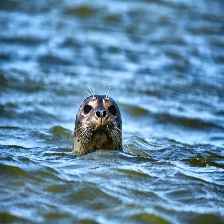seal: (72, 95, 123, 157)
